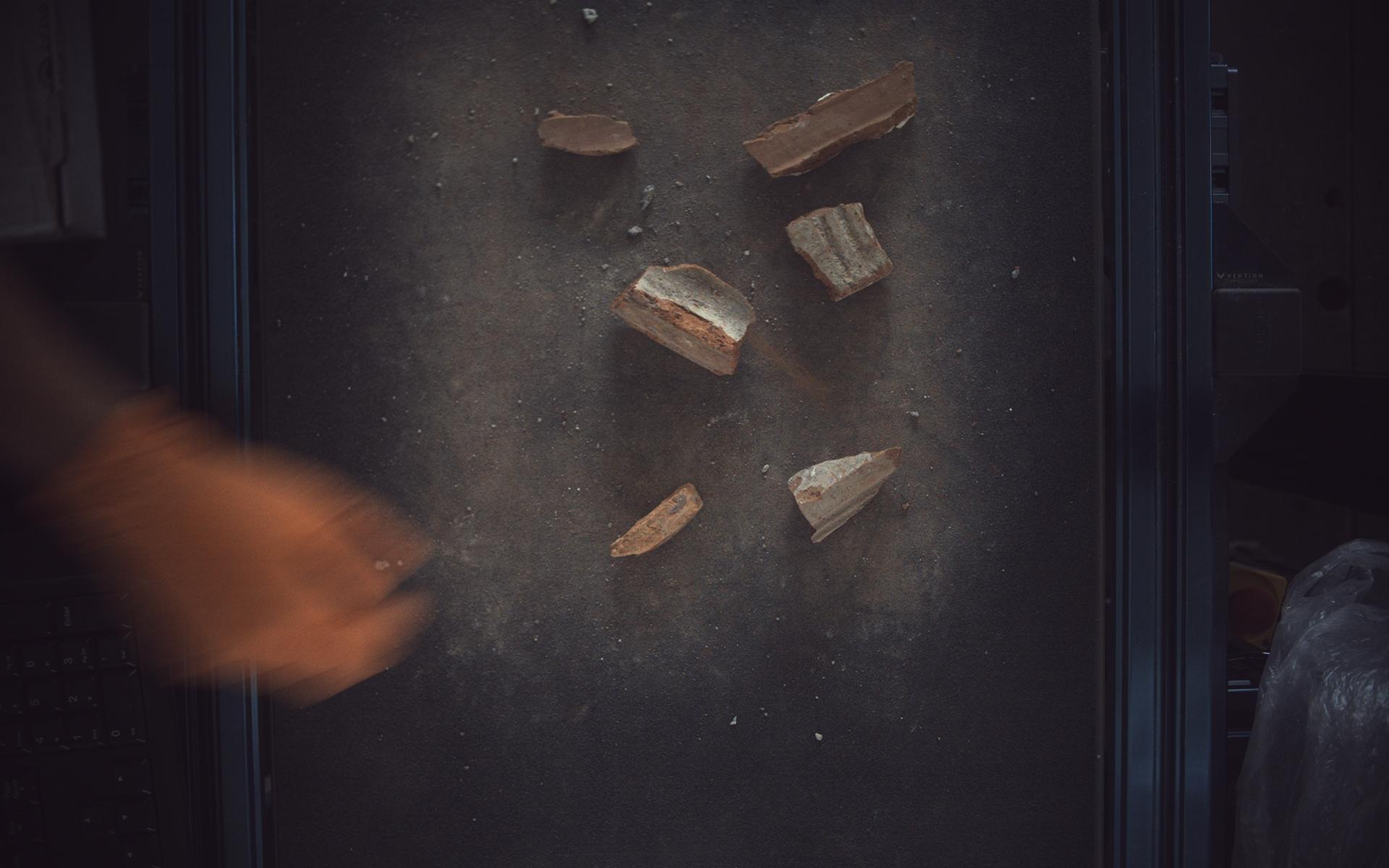brick: (744, 60, 919, 176), (611, 264, 756, 375), (789, 448, 904, 543), (788, 202, 894, 300), (611, 483, 704, 558), (538, 109, 639, 155)
